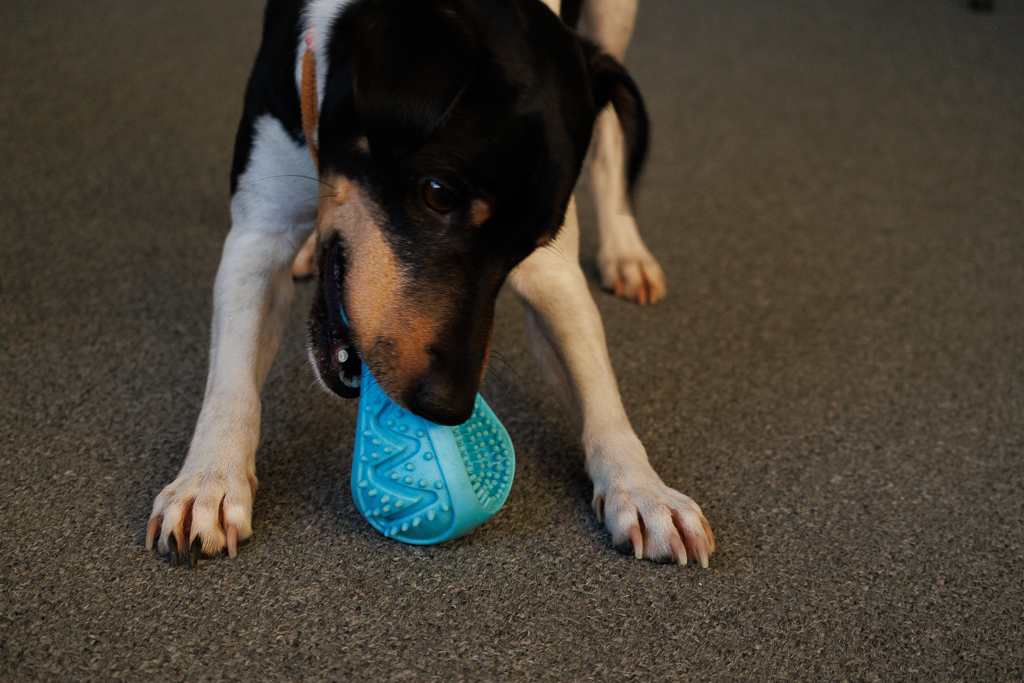Dog: (124, 0, 739, 597)
